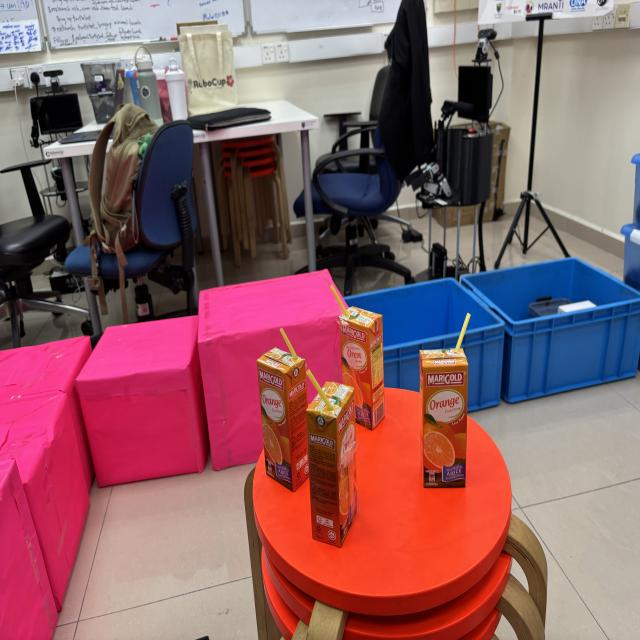drink_carton: (300, 357, 364, 555), (416, 309, 476, 506), (325, 275, 393, 437), (253, 324, 313, 503)
